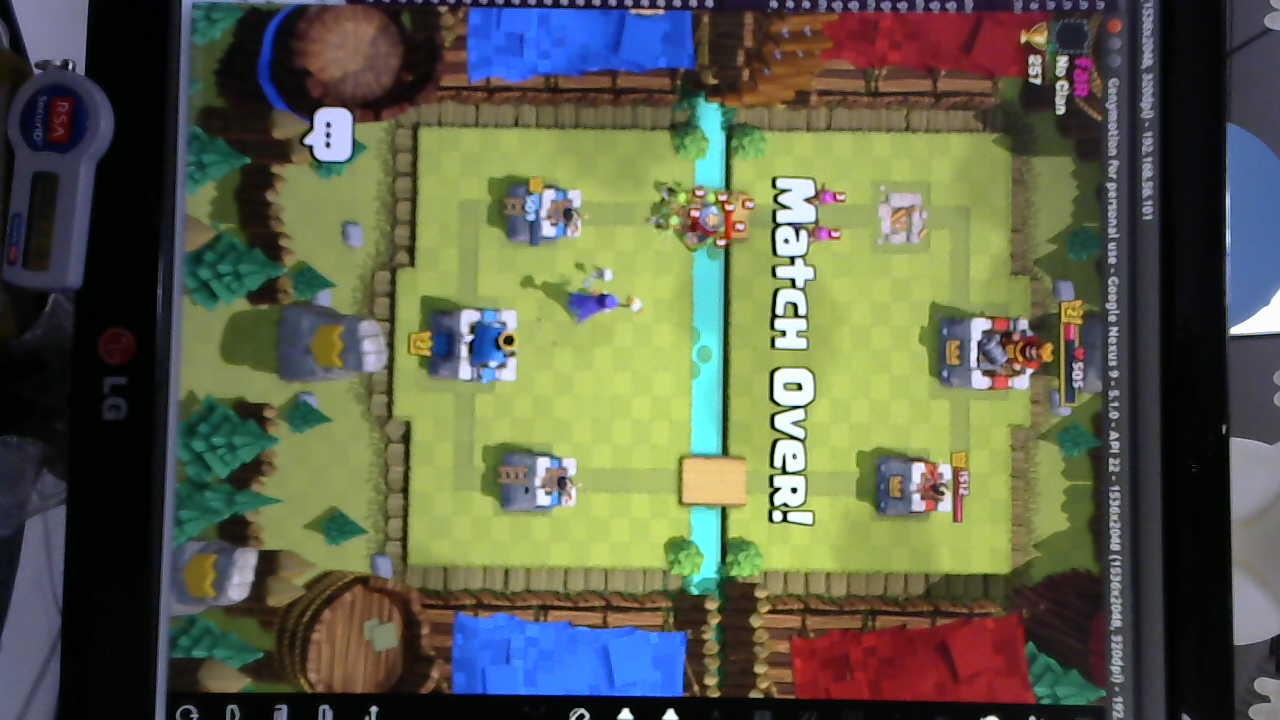archers: (807, 187, 848, 243)
arena: (493, 445, 578, 517), (515, 182, 588, 244)
darena: (871, 184, 931, 250)
earena: (875, 452, 953, 518)
eking: (939, 308, 1046, 396)
king: (429, 301, 523, 390)
knight: (681, 200, 726, 254)
speargoblins: (653, 181, 690, 233)
witch: (559, 282, 624, 328)
